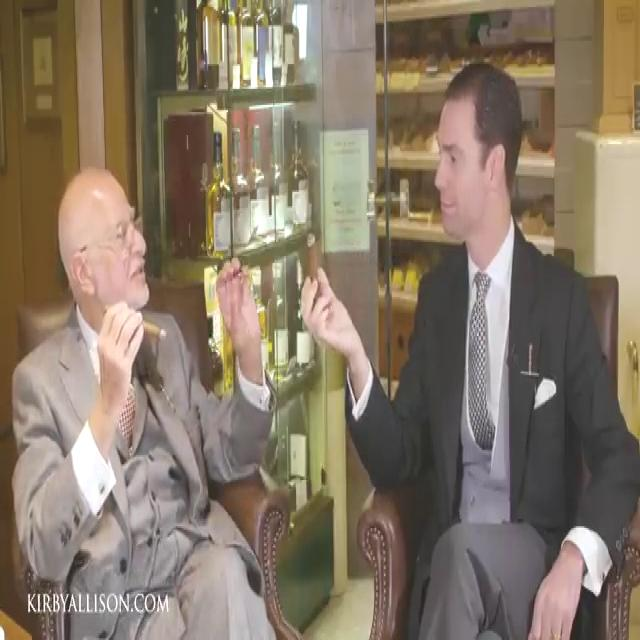Smooking: (294, 226, 330, 286), (141, 316, 170, 355)
